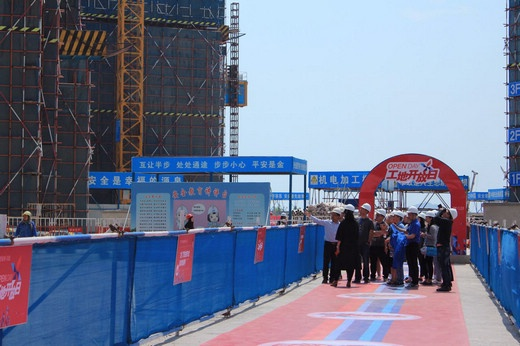red: (185, 213, 194, 222)
white: (442, 206, 458, 221), (406, 205, 419, 220), (359, 202, 372, 216), (391, 210, 404, 223), (343, 203, 355, 217), (330, 208, 341, 222), (375, 208, 386, 221), (424, 211, 434, 222), (418, 212, 426, 223), (279, 212, 288, 219)
yellow: (21, 209, 31, 221)
